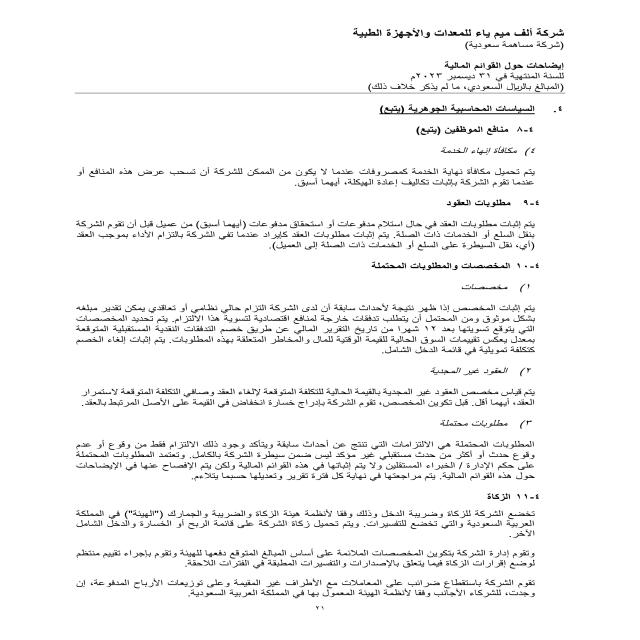notes: (439, 61, 571, 71)
text: (42, 103, 574, 616)
